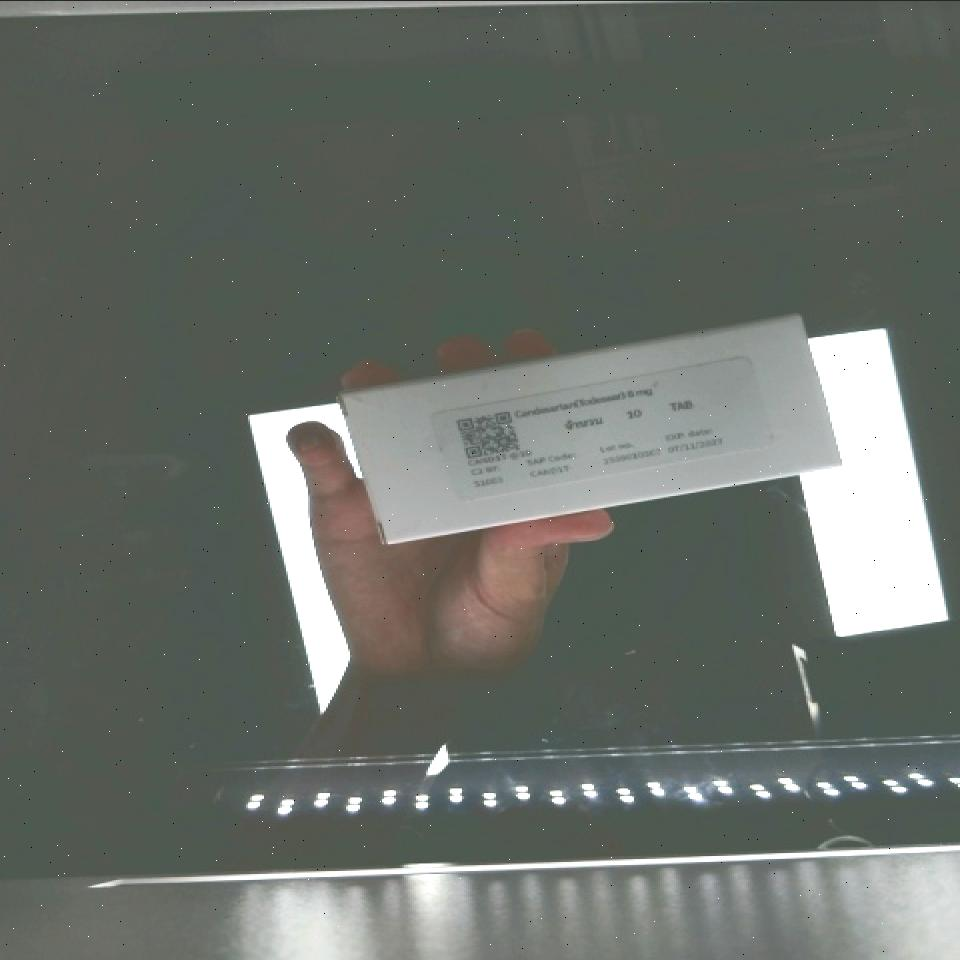medicine_box: (339, 310, 839, 552)
qr_code: (428, 392, 541, 477)
